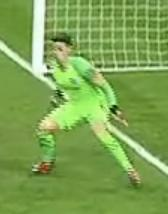goalkeeper: (23, 24, 154, 194)
